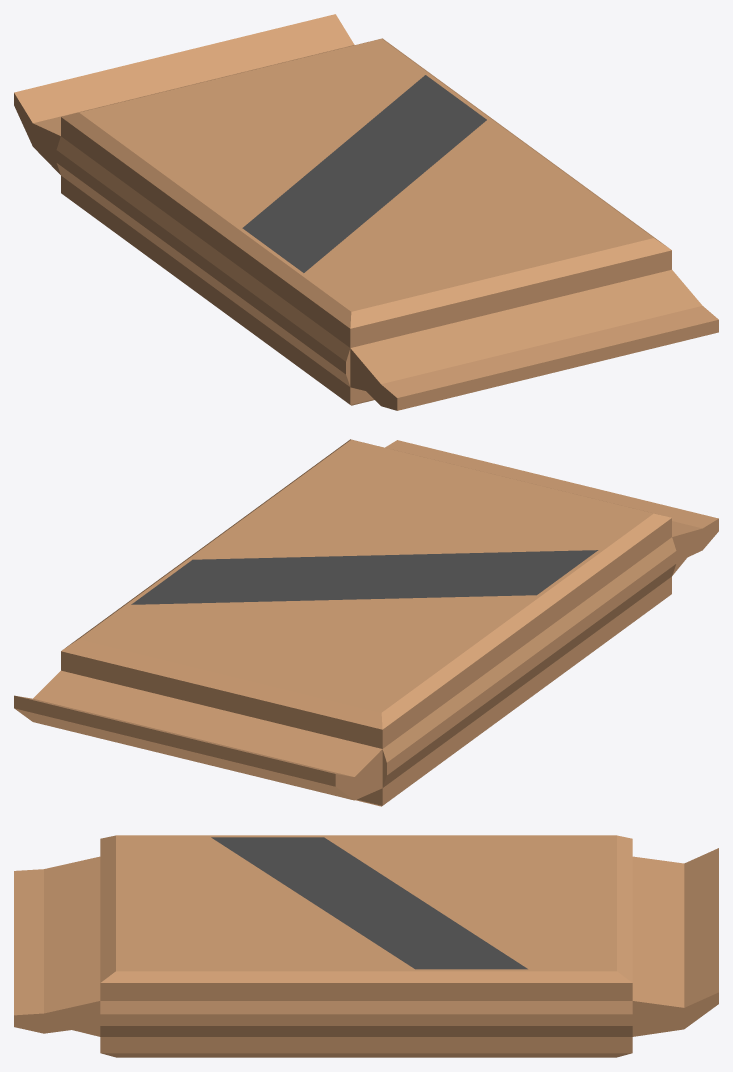
The model's file is MRE.fbx.
3 renders of one model, top to bottom at view 1: azimuth 30°, elevation 25°; view 2: azimuth 150°, elevation 25°; view 3: azimuth 270°, elevation 25°, orthographic. The views are drawn at different scales.
Visible parts, largest first — view 1: Cube; view 2: Cube; view 3: Cube.
Part boxes in pixels (left/top/right/bottom): Cube: left=14, top=14, right=718, bottom=410; Cube: left=14, top=439, right=718, bottom=806; Cube: left=14, top=835, right=718, bottom=1057.
Bounding box in the file's own units: 41.02 × 11.16 × 82.54.
